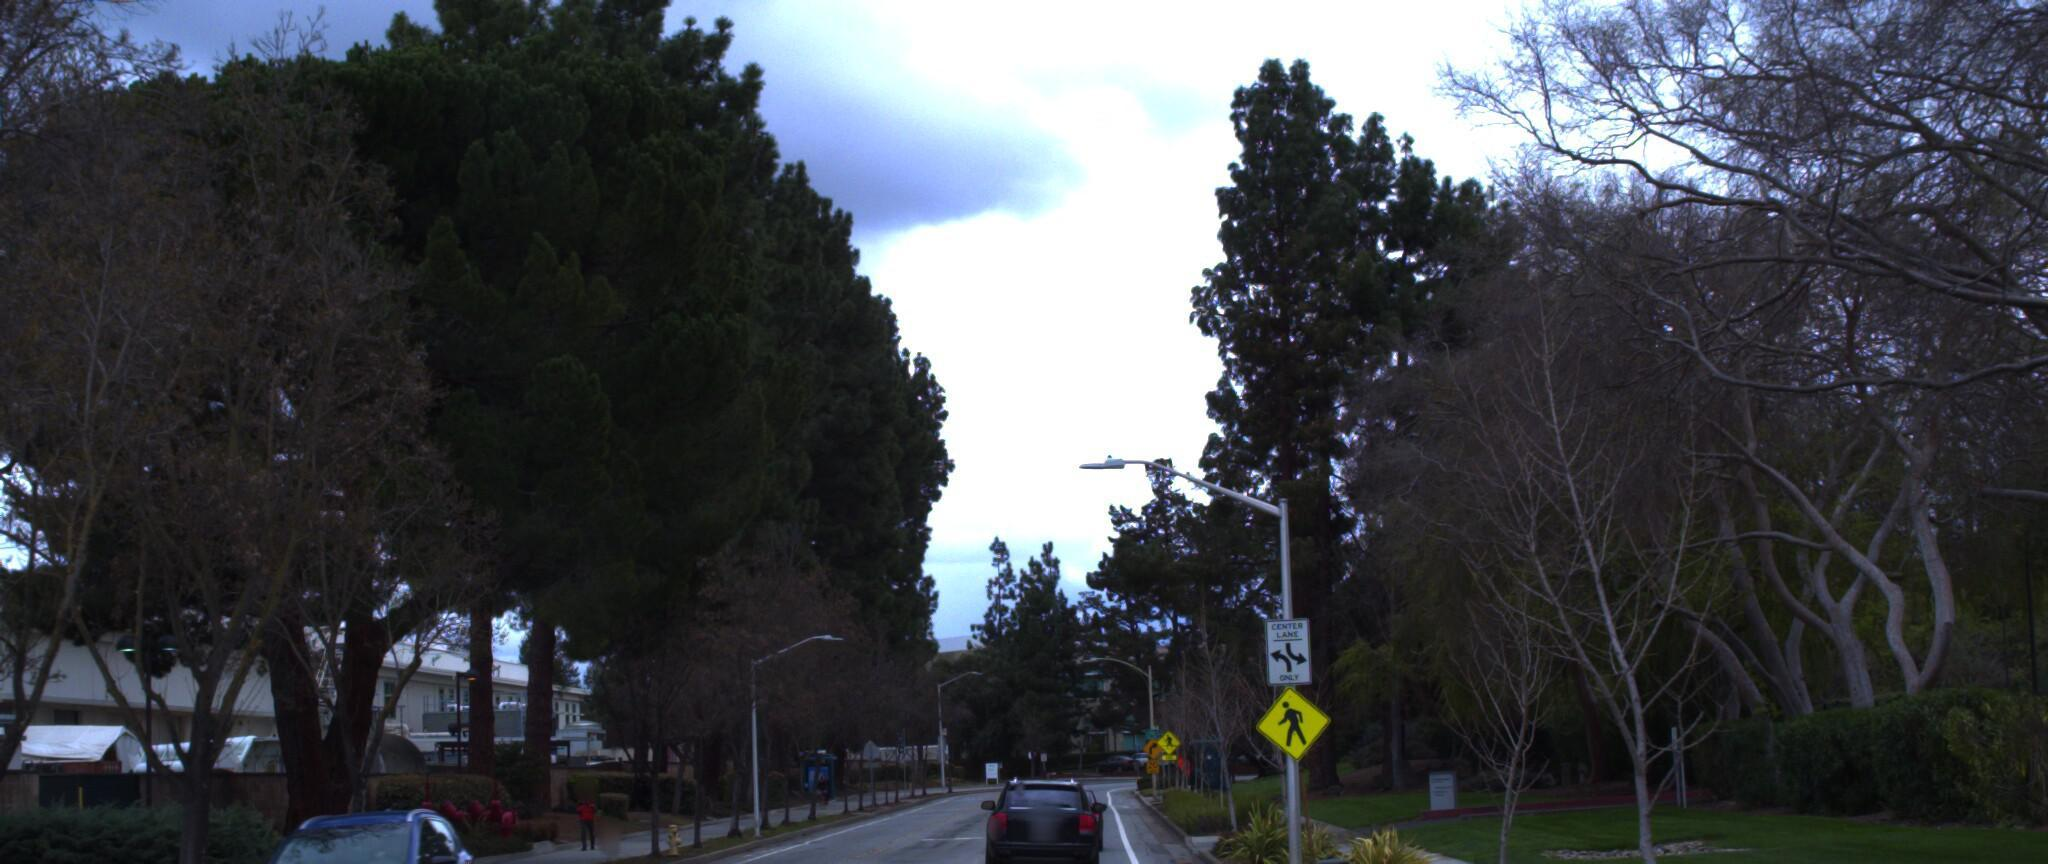car: (210, 804, 490, 864), (968, 762, 1085, 864)
